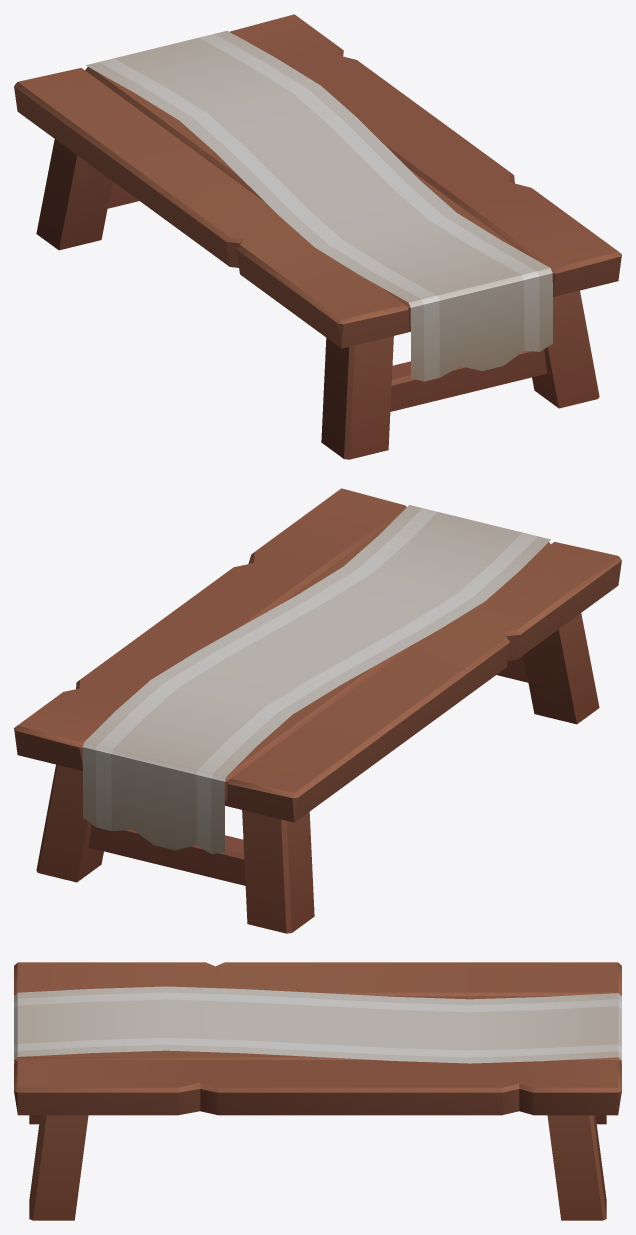
Rendered from table_long_tablecloth.glb.
The picture shows the model from 3 angles, top to bottom: view 1: azimuth 30°, elevation 25°; view 2: azimuth 150°, elevation 25°; view 3: azimuth 270°, elevation 25°; orthographic projection. The views are drawn at different scales.
Visible parts, largest first — view 1: table_long_tablecloth; view 2: table_long_tablecloth; view 3: table_long_tablecloth.
Part boxes in pixels (x1,y1,x2,y2): table_long_tablecloth: [14, 14, 621, 459]; table_long_tablecloth: [14, 488, 621, 933]; table_long_tablecloth: [14, 962, 621, 1220].
Bounding box in the file's own units: 2 × 1 × 4.
